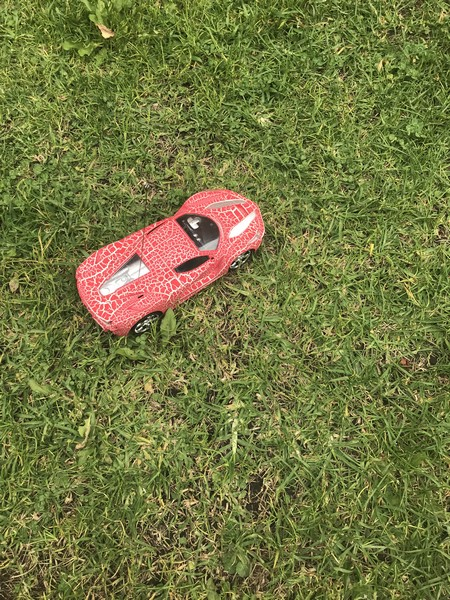RC: (74, 188, 267, 341)
